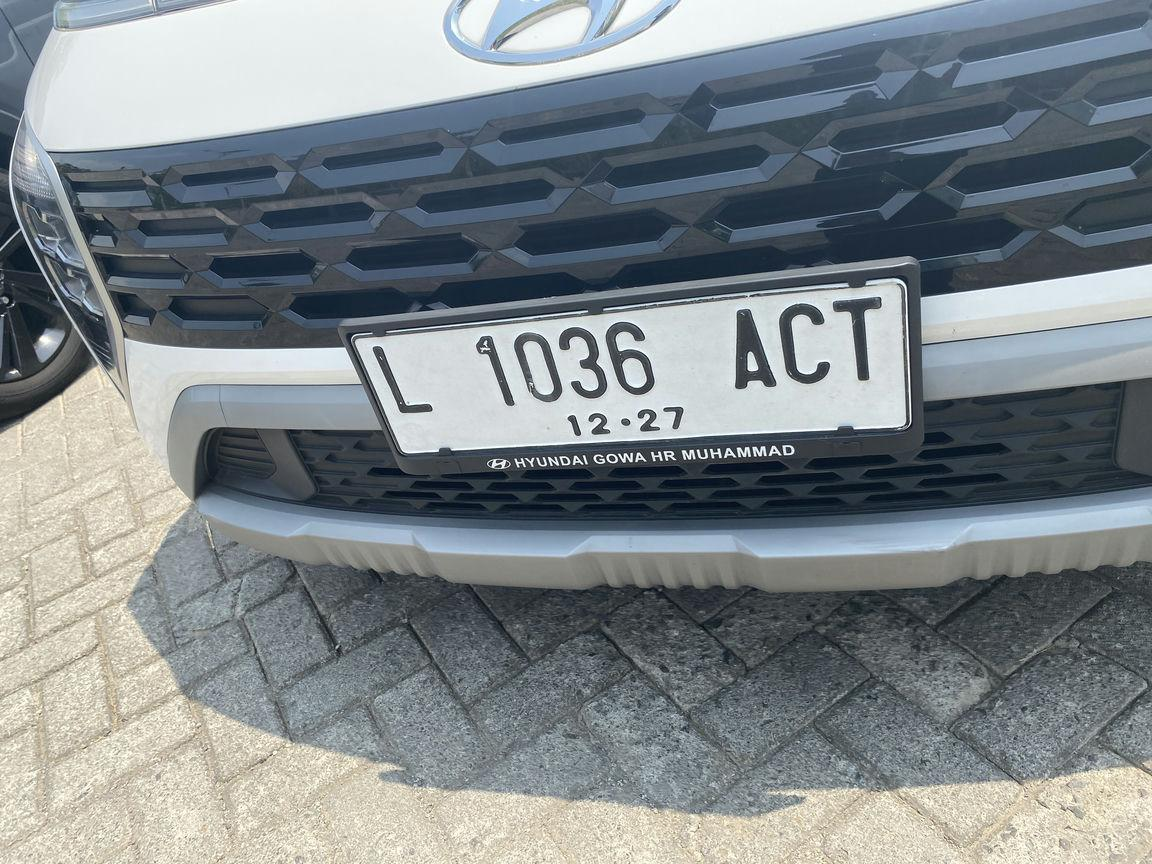plat: (342, 259, 922, 472)
